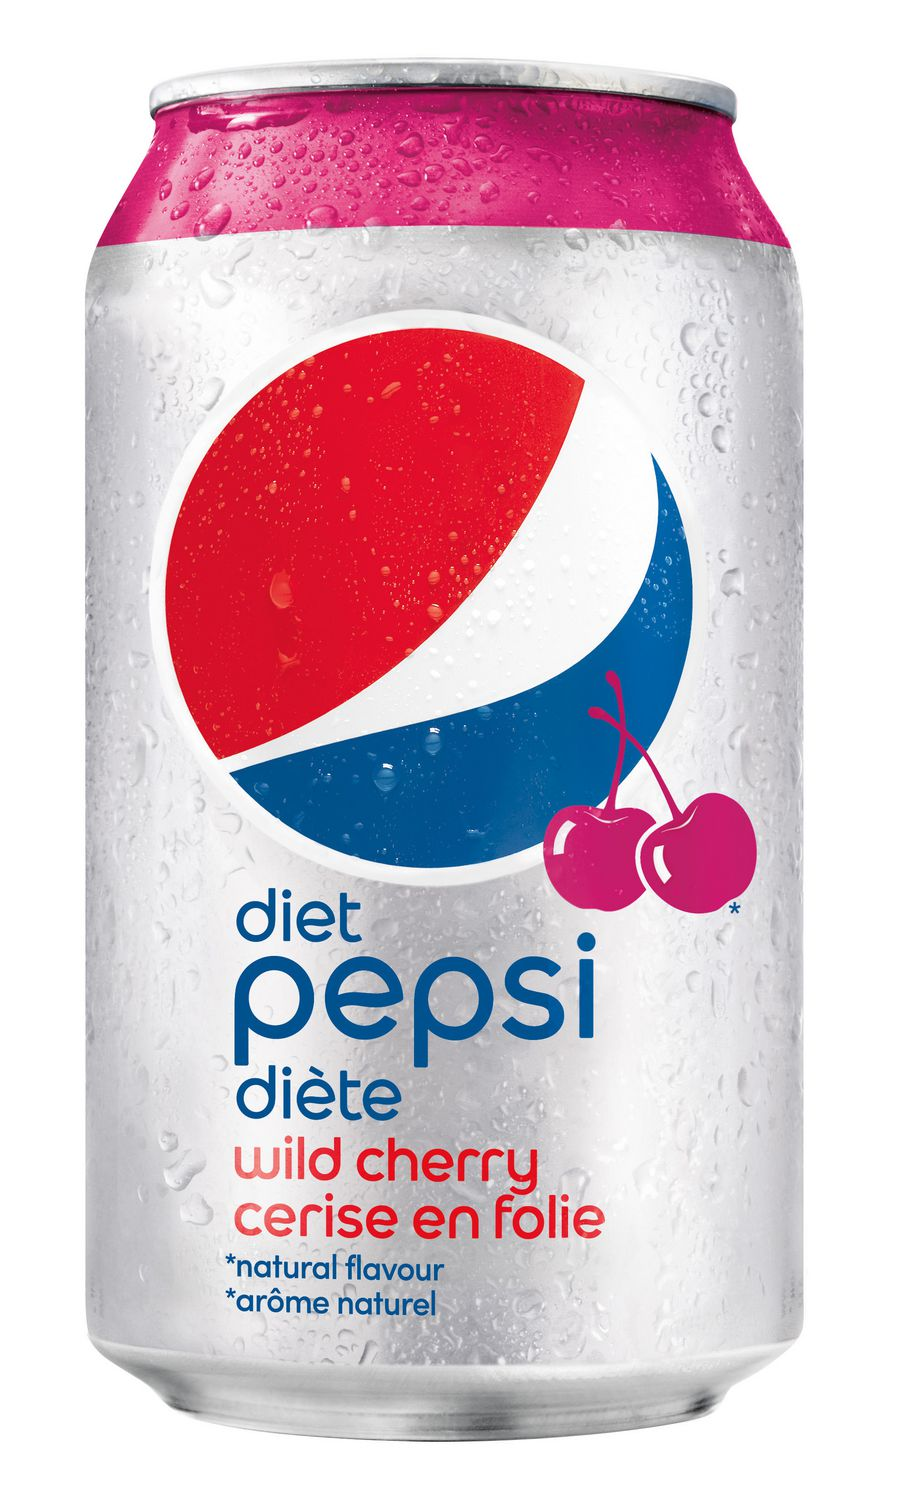pepsi: (148, 310, 705, 890)
